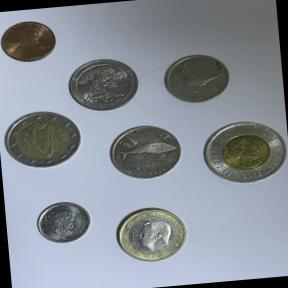coin: (195, 112, 288, 191), (0, 105, 87, 175), (109, 200, 197, 268), (104, 119, 190, 187), (63, 53, 148, 118), (0, 13, 65, 70), (32, 198, 96, 251)
